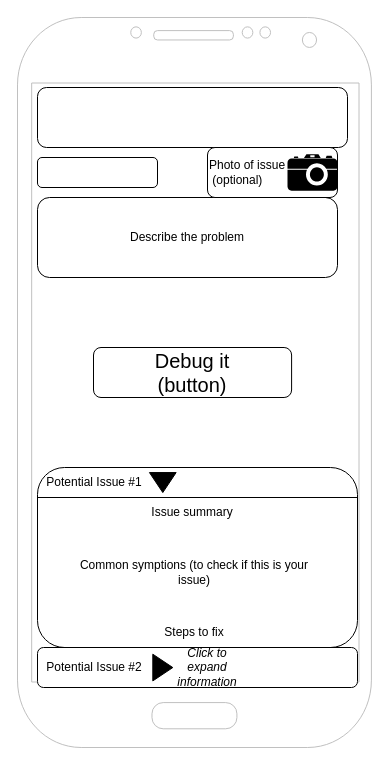
Some shapes in this 389 by 765 pixel diagram are drawn without their labels. The shapes that lost their labels are listed below. From the top down, each one's centre as x and y in pixels, then its label:
At (192,117): "FixIt".
At (97,172): "What is the device?".
